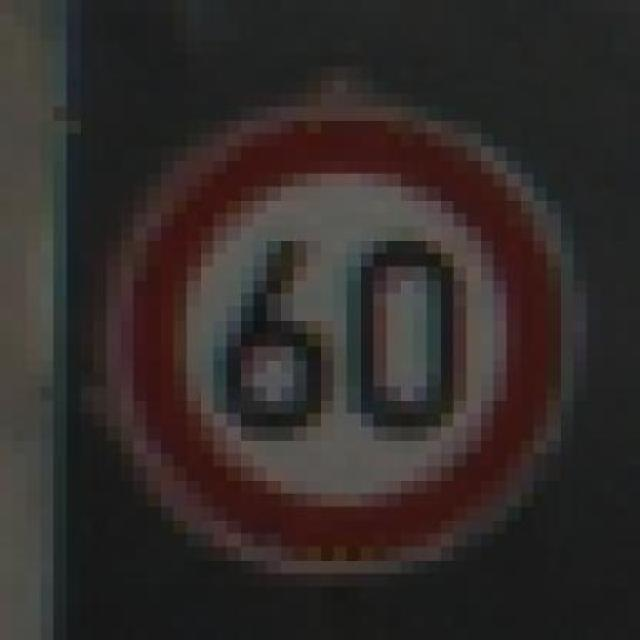forb_speed_over_60: (131, 116, 557, 562)
